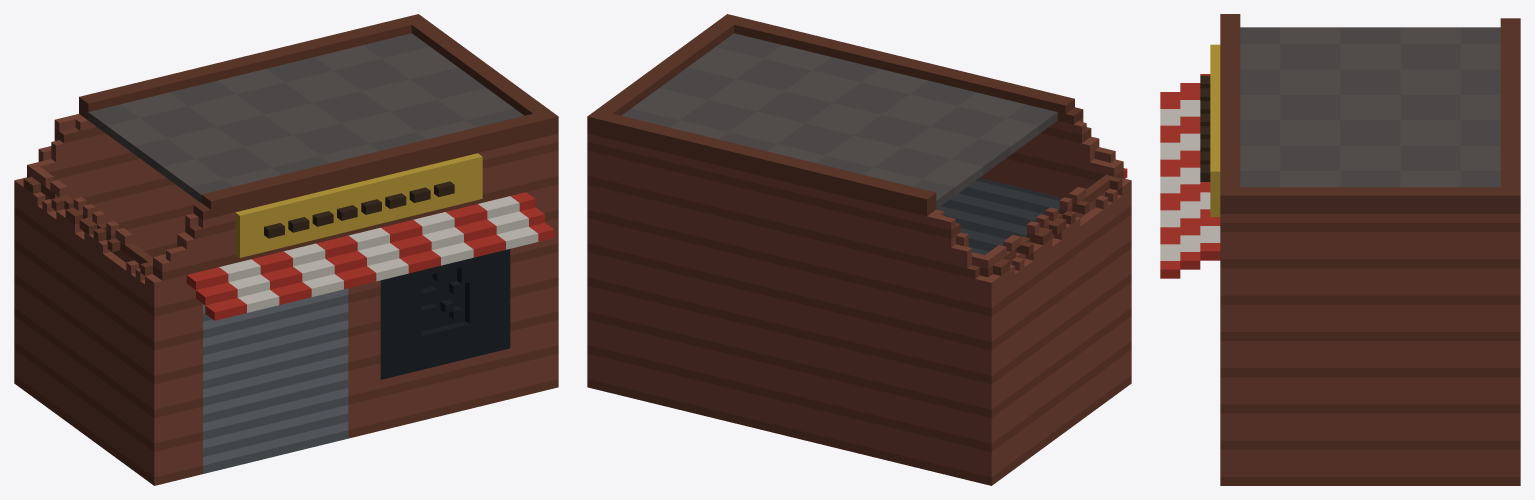
Rendered from prop_shop.glb.
3 views of the same model, side by side, from view 1: azimuth 30°, elevation 25°; view 2: azimuth 150°, elevation 25°; view 3: azimuth 270°, elevation 25° (orthographic). The views are drawn at different scales.
Parts seen in each view (by area): view 1: prop_shop; view 2: prop_shop; view 3: prop_shop.
Boxes of the visible parts, x1,y1,x2,y2 form: prop_shop: (14,14,558,485); prop_shop: (587,14,1131,485); prop_shop: (1160,14,1520,485).
Bounding box in the file's own units: 5 × 3.2 × 3.6.
